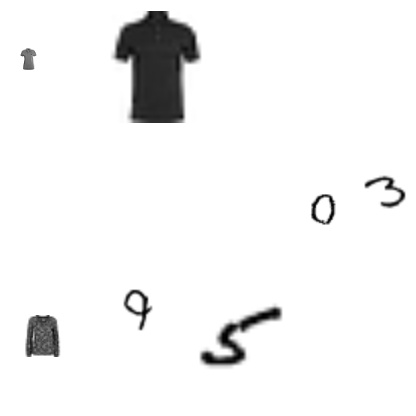0: (301, 187, 343, 229)
3: (359, 162, 415, 218)
5: (181, 280, 293, 392)
9: (110, 278, 166, 334)
Shirt: (21, 315, 63, 357)
T-shirt/top: (100, 11, 212, 123), (17, 48, 39, 70)
